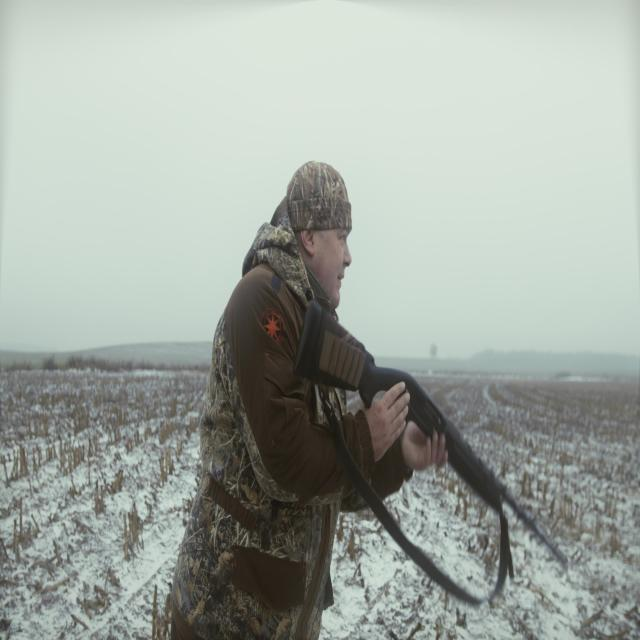Hunter: (177, 149, 373, 637)
